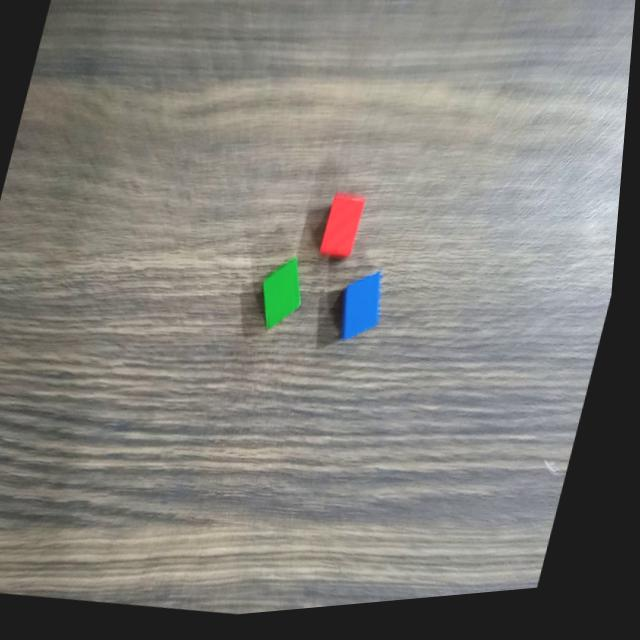cube: (253, 247, 322, 342), (336, 269, 401, 356), (319, 194, 375, 271)
